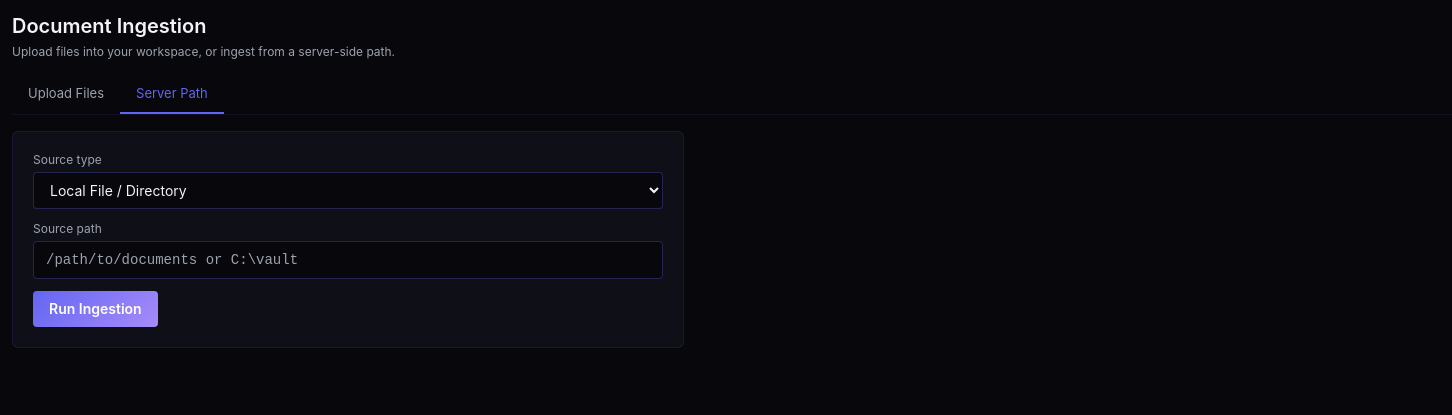
Scenario: IngestionView › validates empty source path client-side
Step 1. Click the button "Run Ingestion" → (95, 308), box [33,290,158,326]
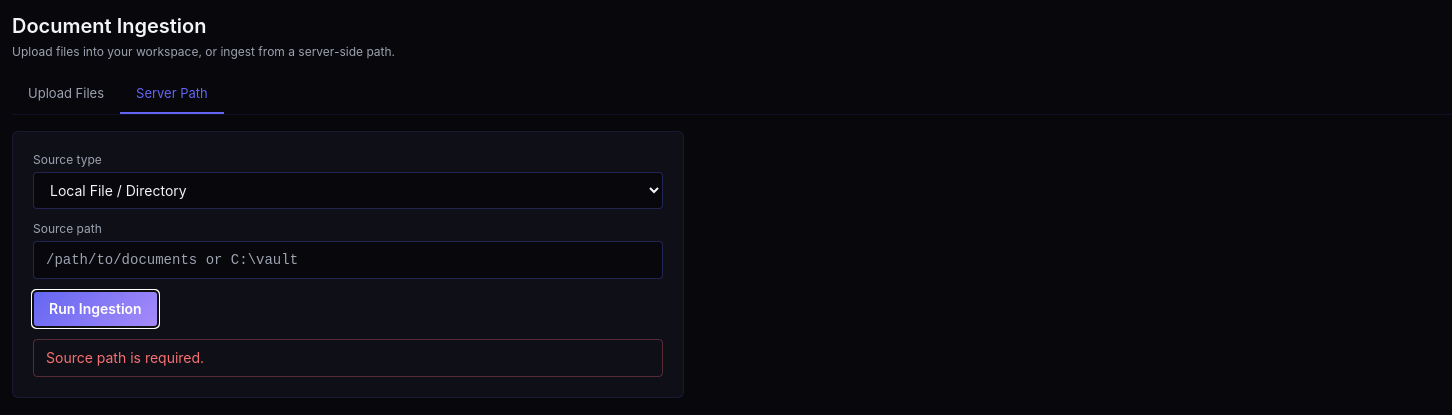
Expected: the text "Source path is required." is shown, [33,338,663,376]
